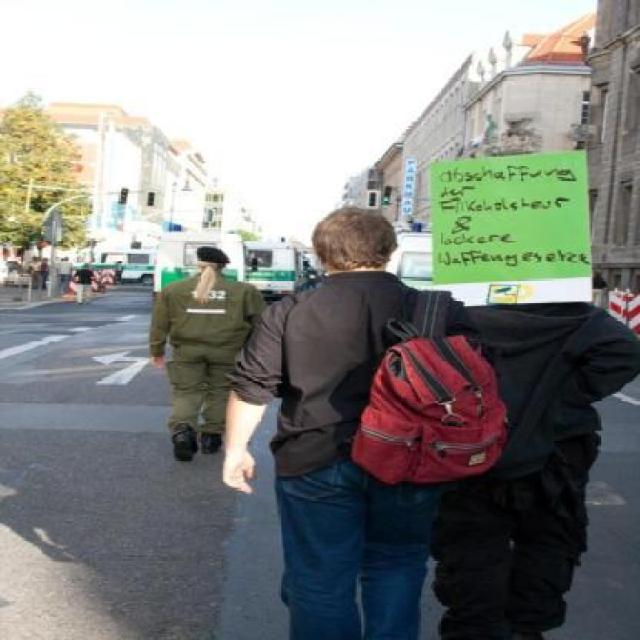backpack: (341, 290, 514, 488)
